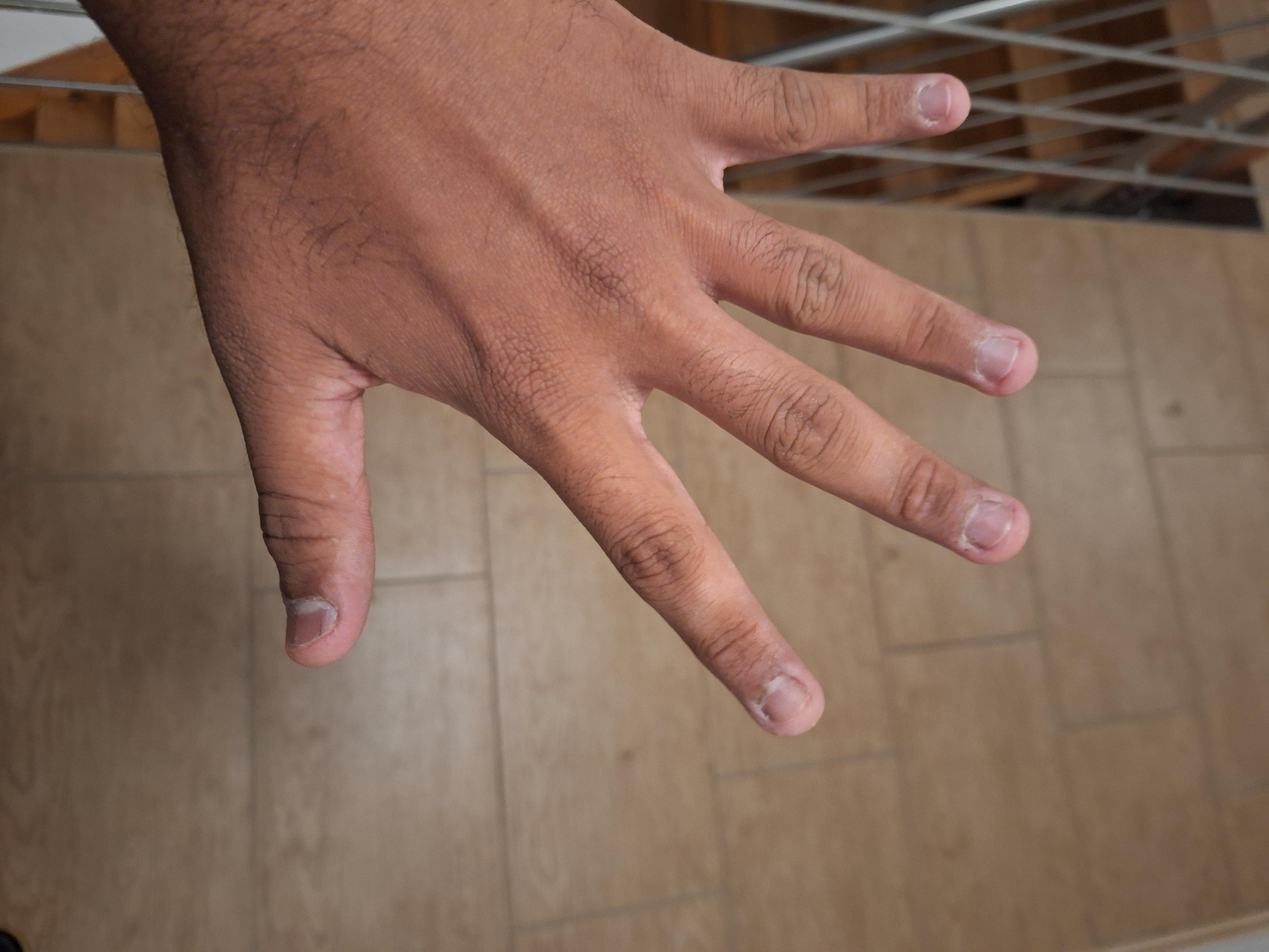Fingernail: (759, 675, 810, 725), (964, 502, 1011, 550), (287, 601, 337, 646), (977, 337, 1019, 383), (918, 83, 950, 122)
